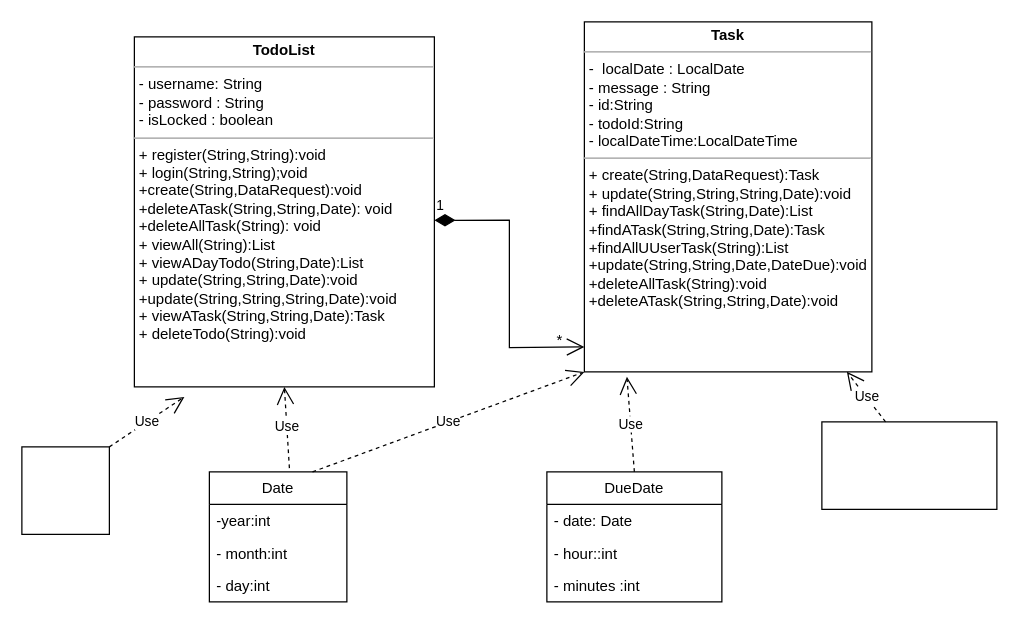
This 1019x628 diagram has some shape labels left out. The centre of each missing label's shape, as x and y in pixels:
"«interface» Task" belongs at point 909,465.
"«interface» TodoList" belongs at point 65,490.
